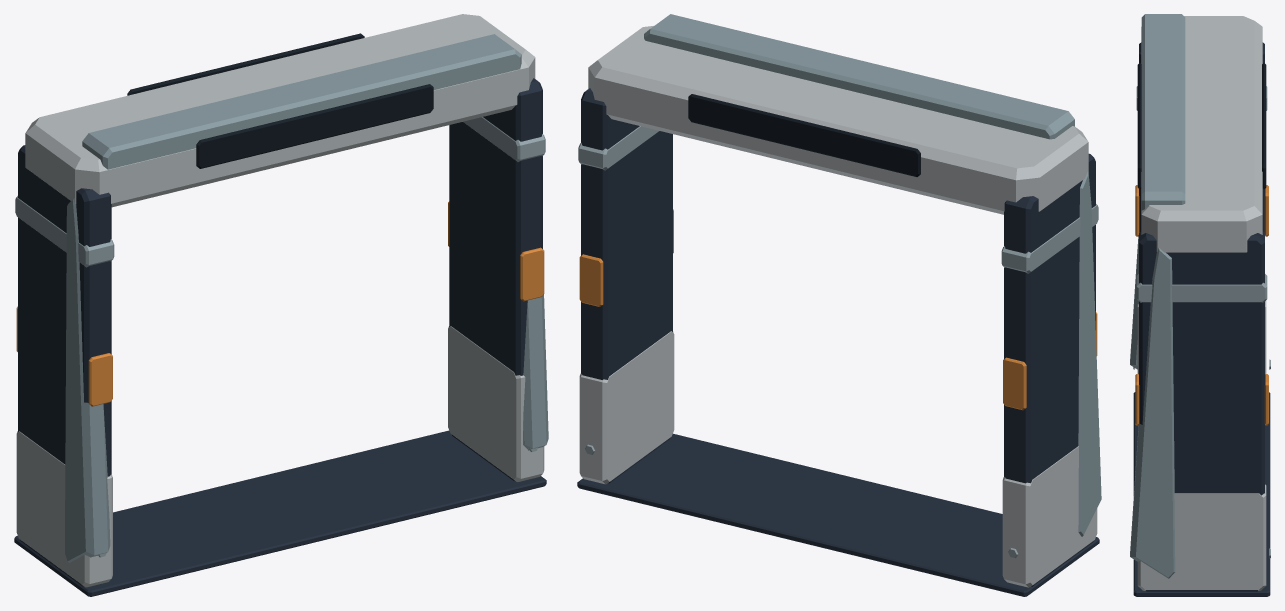
File: gate_frame.glb
3 renders of one model, left to right at view 1: azimuth 30°, elevation 25°; view 2: azimuth 150°, elevation 25°; view 3: azimuth 270°, elevation 25°, orthographic. The views are drawn at different scales.
Visible parts, largest first — view 1: gate_frame; view 2: gate_frame; view 3: gate_frame.
Part boxes in pixels (left/top/right/bottom): gate_frame: left=14, top=14, right=548, bottom=596; gate_frame: left=577, top=14, right=1101, bottom=596; gate_frame: left=1130, top=14, right=1270, bottom=596.
Bounding box in the file's own units: 4.01 × 3.64 × 1.18.
